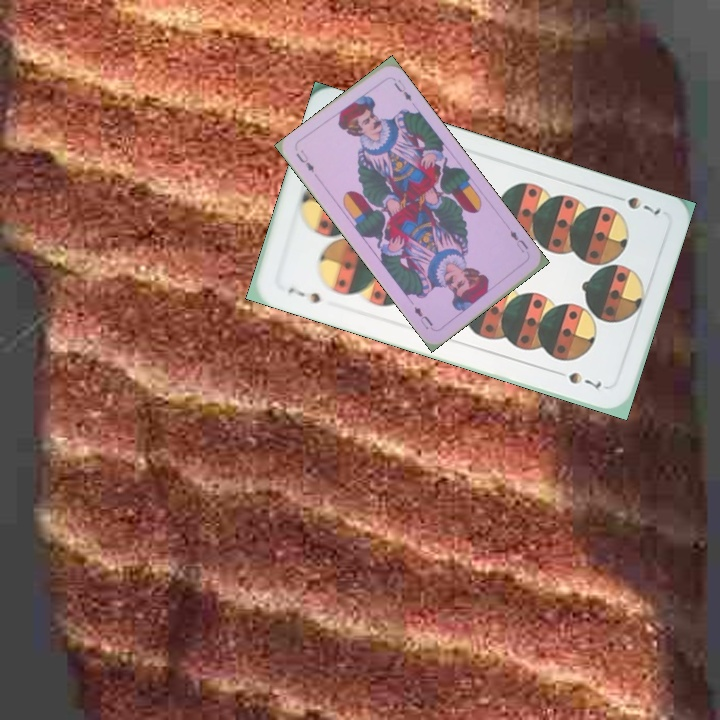EU: (506, 226, 531, 255), (292, 146, 317, 175)
S7: (608, 190, 663, 218), (283, 283, 323, 306)
